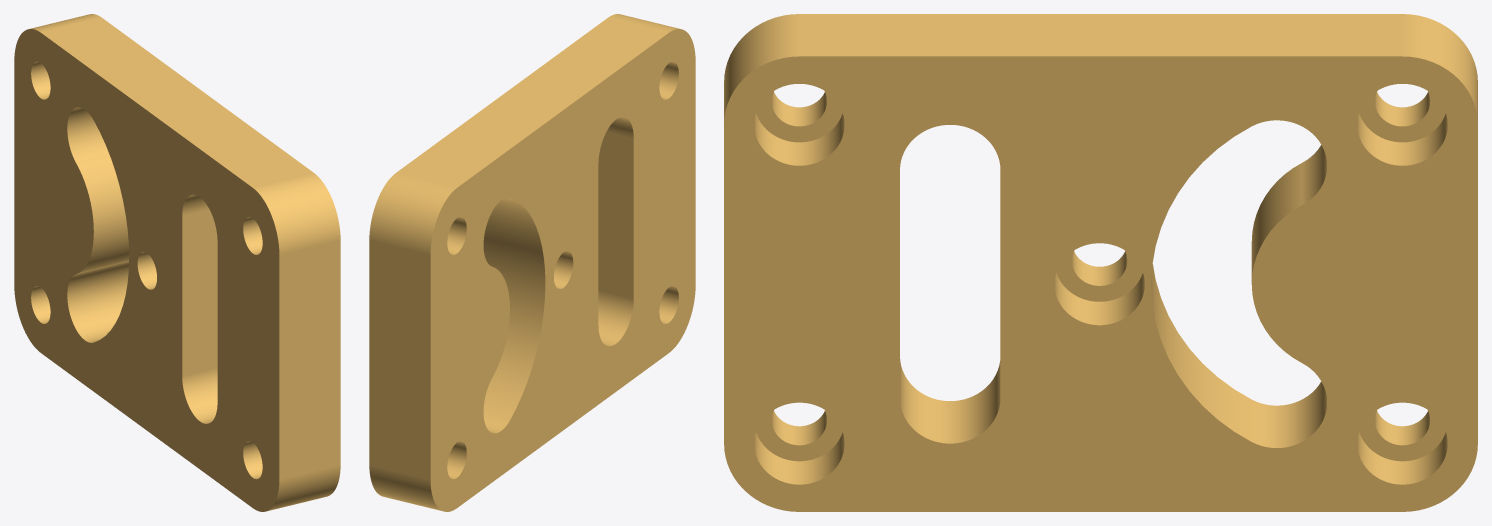
File: PlacaCNC.glb
3 views of the same model, side by side, from view 1: azimuth 30°, elevation 25°; view 2: azimuth 150°, elevation 25°; view 3: azimuth 270°, elevation 25° (orthographic). The views are drawn at different scales.
Visible parts, largest first — view 1: Part 1; view 2: Part 1; view 3: Part 1.
Boxes of the visible parts, x1,y1,x2,y2 form: Part 1: (14, 14, 340, 511); Part 1: (369, 14, 695, 511); Part 1: (724, 14, 1477, 511).
Size of the model in its own units: 0.02 by 0.1 by 0.15.
